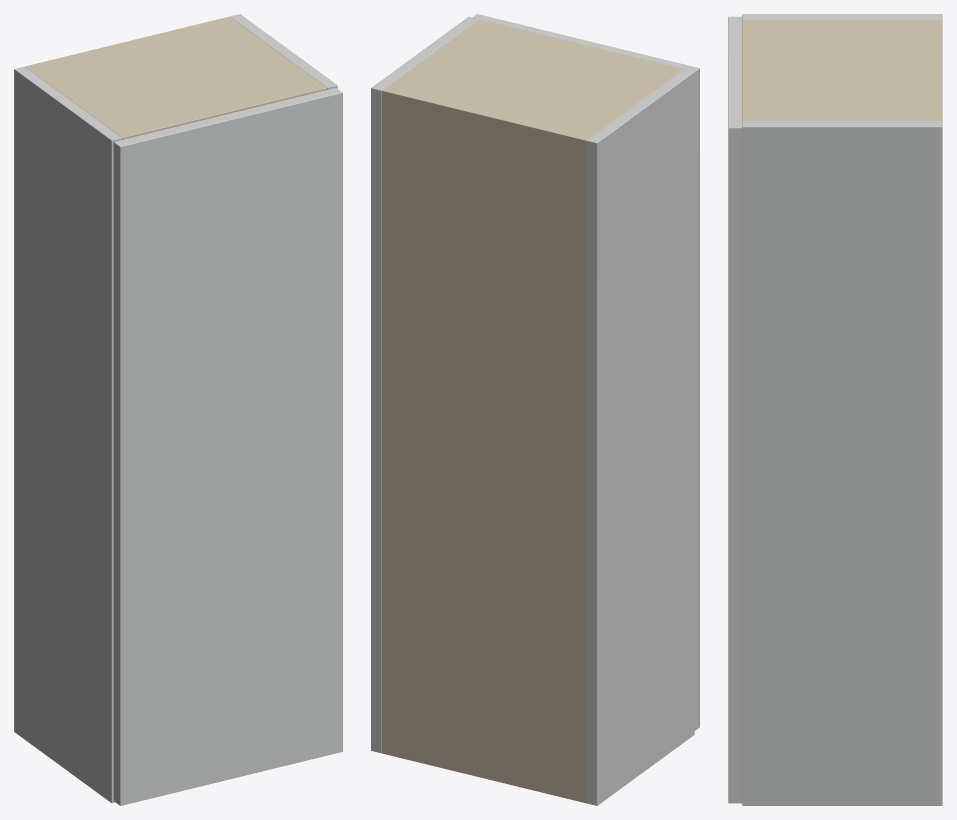
Rendered from oppein-ply-pgw-w1542.glb.
The picture shows the model from 3 angles, left to right: view 1: azimuth 30°, elevation 25°; view 2: azimuth 150°, elevation 25°; view 3: azimuth 270°, elevation 25°; orthographic projection. The views are drawn at different scales.
Visible parts, largest first — view 1: Door, Cabinet side, Cabinet top, Cabinet side.001; view 2: Cabinet back, Cabinet side, Cabinet top, Cabinet side.001, Door, Cabinet bottom; view 3: Cabinet side.001, Cabinet top, Door, Cabinet side.
Part boxes in pixels (box(x1,y1,x2,y2)): Door: box(113, 88, 342, 805); Cabinet side: box(14, 66, 122, 803); Cabinet top: box(25, 16, 326, 139); Cabinet side.001: box(230, 14, 337, 89); Cabinet back: box(382, 91, 586, 803); Cabinet side: box(586, 69, 694, 805); Cabinet top: box(382, 19, 683, 149); Cabinet side.001: box(371, 16, 478, 753); Door: box(472, 14, 699, 730); Cabinet bottom: box(382, 743, 586, 794); Cabinet side.001: box(742, 121, 942, 805); Cabinet top: box(742, 19, 942, 121); Door: box(728, 16, 742, 803); Cabinet side: box(742, 14, 942, 19).
Bounding box in the file's own units: 0.381 × 1.07 × 0.3048.
